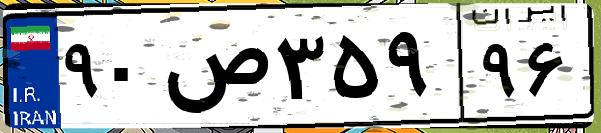0: (110, 28, 158, 98)
3: (270, 28, 330, 110)
5: (330, 28, 385, 110)
6: (525, 38, 570, 115)
9: (385, 28, 445, 110), (57, 26, 110, 100), (475, 38, 525, 113)
ص: (158, 20, 270, 120)
